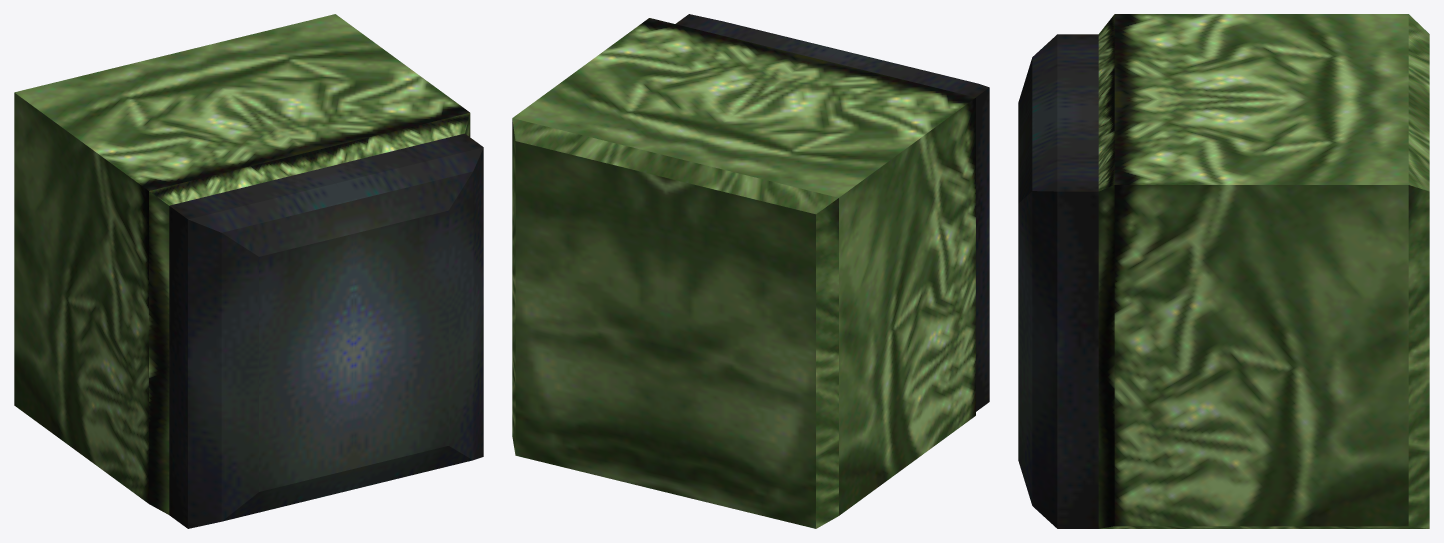
The model's file is arm_scientist_head.obj.
3 renders of one model, left to right at view 1: azimuth 30°, elevation 25°; view 2: azimuth 150°, elevation 25°; view 3: azimuth 270°, elevation 25°, orthographic. The views are drawn at different scales.
Parts seen in each view (by area): view 1: Cube_Cube.001; view 2: Cube_Cube.001; view 3: Cube_Cube.001.
Part boxes in pixels (x1=…): Cube_Cube.001: x1=14, y1=14, x2=483, y2=528; Cube_Cube.001: x1=512, y1=14, x2=989, y2=528; Cube_Cube.001: x1=1018, y1=14, x2=1429, y2=528.
Bounding box in the file's own units: 2.17 × 2.08 × 2.21.
